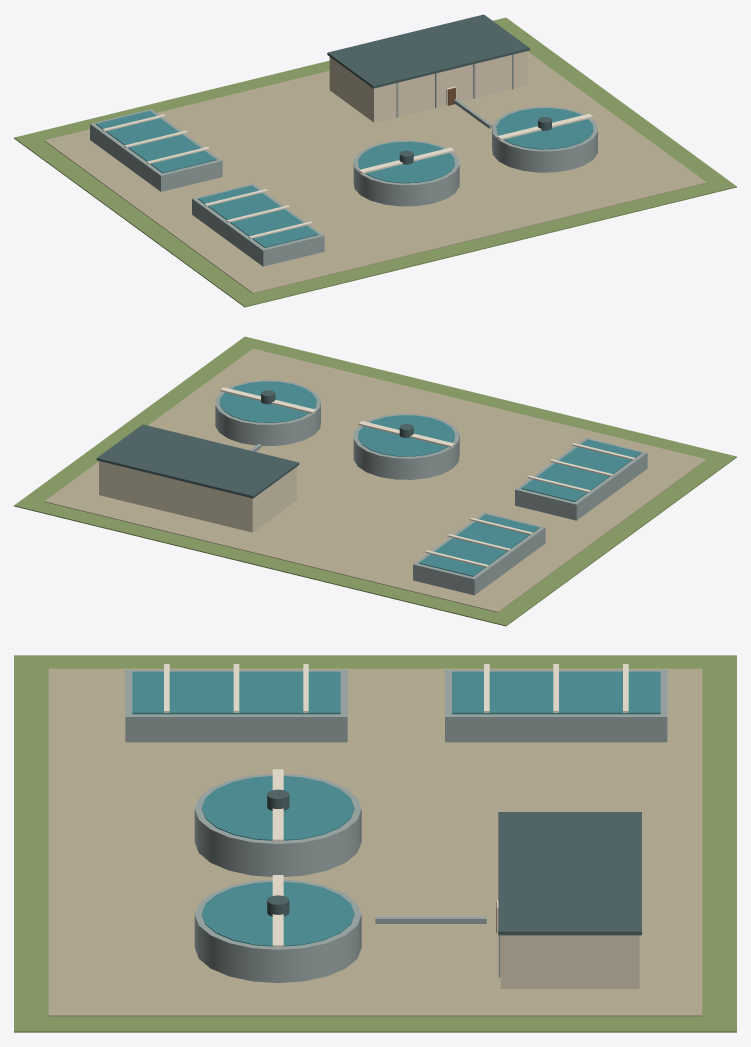
File: wastewater-upgrade.glb
3 views of the same model, one above another, from view 1: azimuth 30°, elevation 25°; view 2: azimuth 150°, elevation 25°; view 3: azimuth 270°, elevation 25° (orthographic). The views are drawn at different scales.
Parts seen in each view (by area): view 1: wastewater-upgrade; view 2: wastewater-upgrade; view 3: wastewater-upgrade.
Part boxes in pixels (x1=…): wastewater-upgrade: x1=14, y1=14, x2=736, y2=307; wastewater-upgrade: x1=14, y1=336, x2=736, y2=626; wastewater-upgrade: x1=14, y1=655, x2=736, y2=1032.
Size of the model in its own units: 64 by 4.85 by 52.
